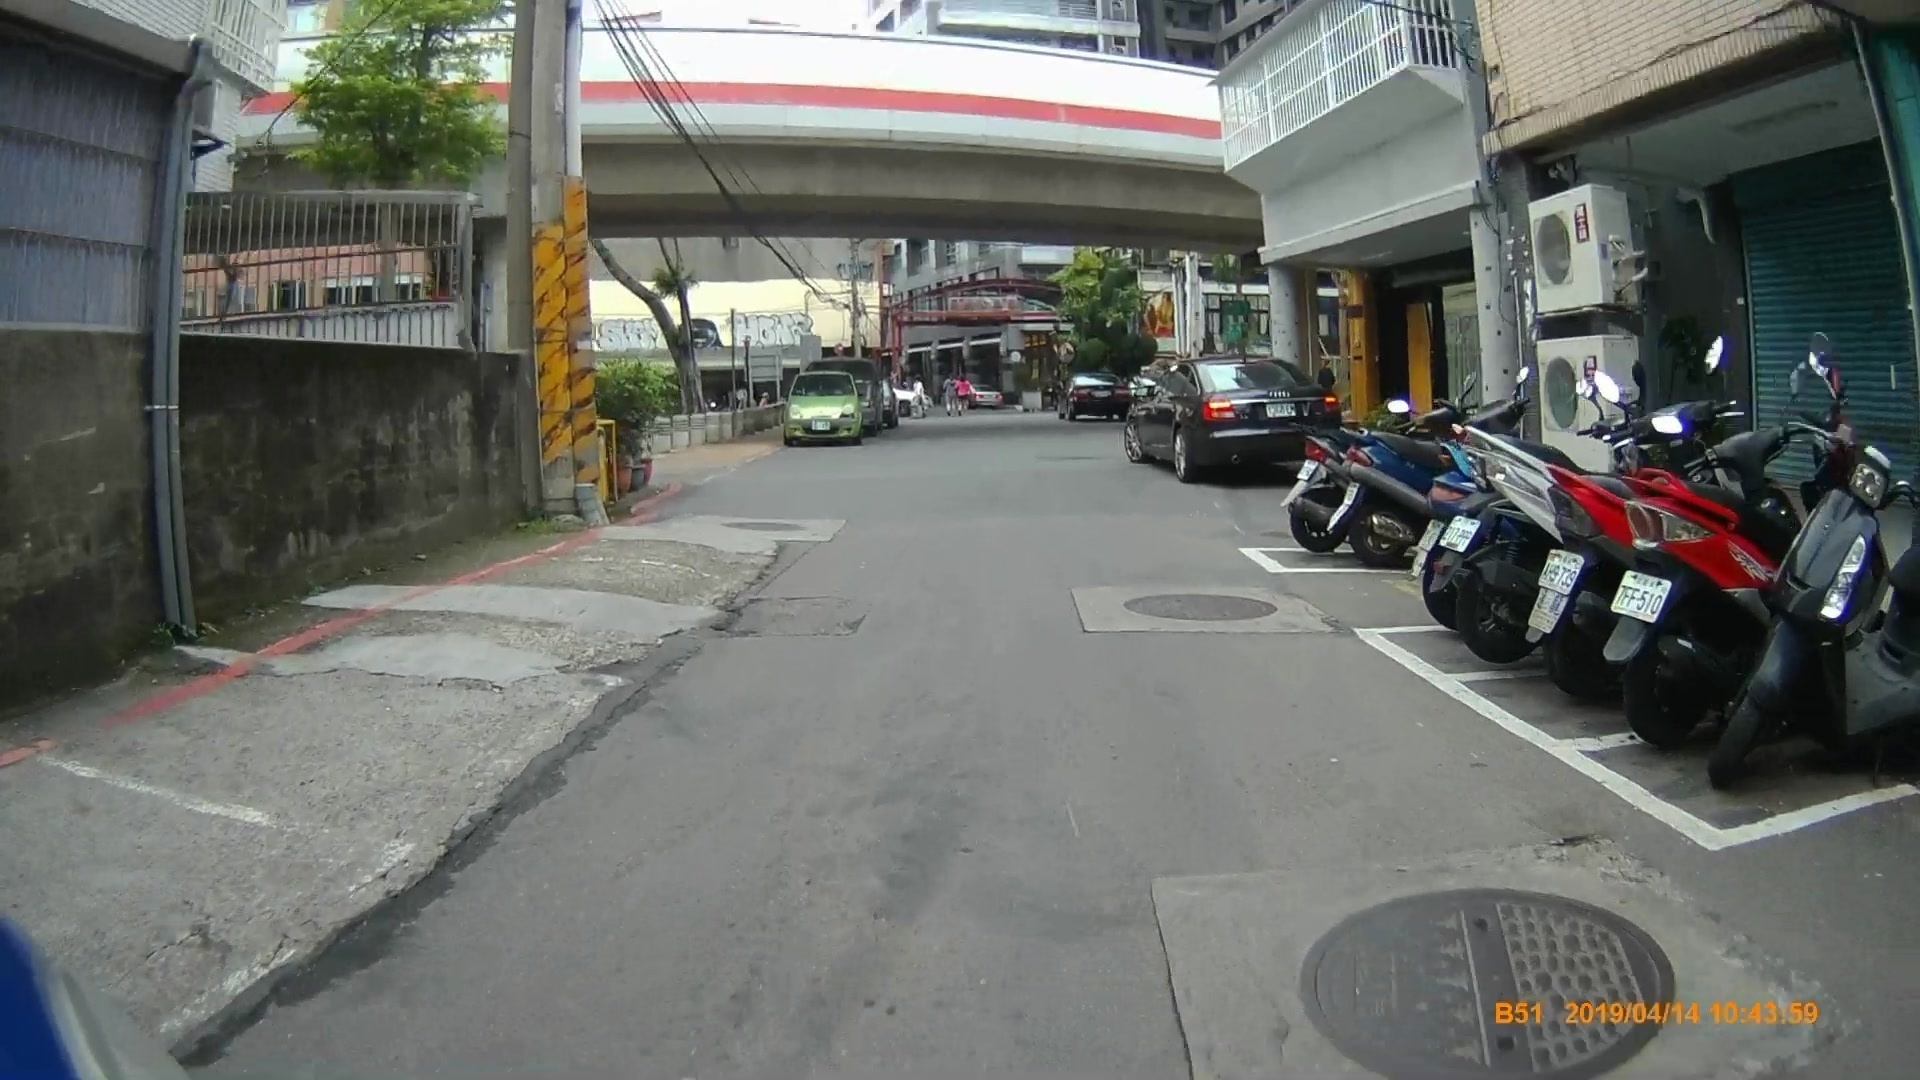License_plate: (1610, 570, 1668, 622), (1532, 544, 1584, 592), (1445, 518, 1480, 550), (1419, 521, 1442, 548), (1262, 401, 1300, 418)
